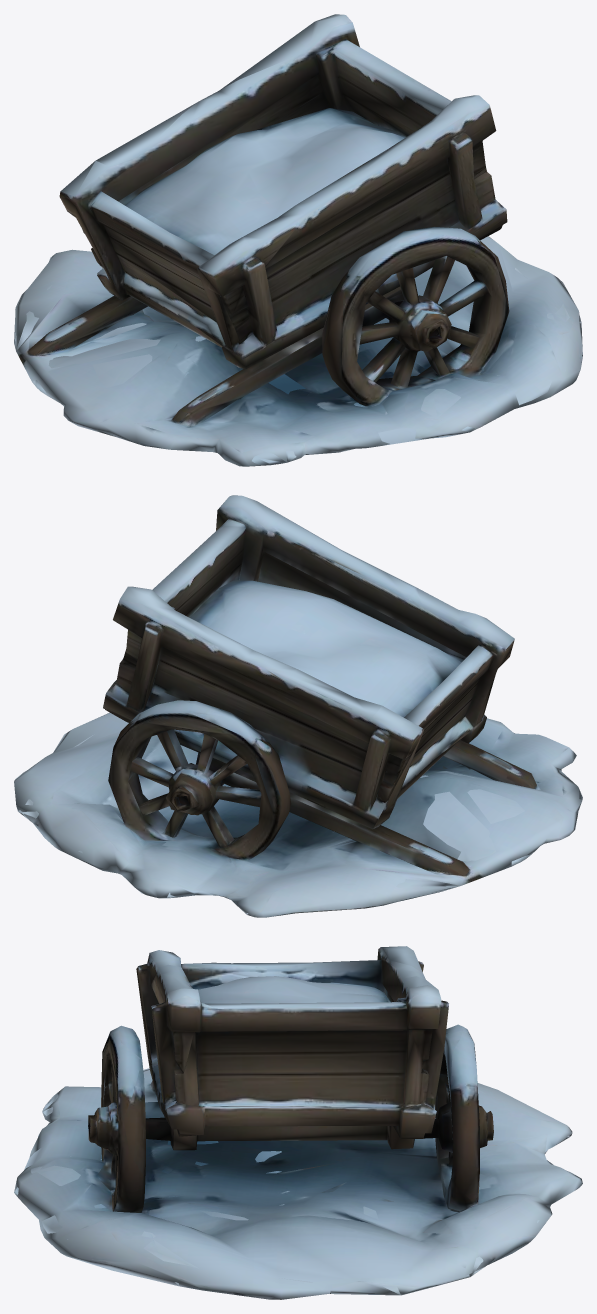
Rendered from snowcart.opt.glb.
3 renders of one model, top to bottom at view 1: azimuth 30°, elevation 25°; view 2: azimuth 150°, elevation 25°; view 3: azimuth 270°, elevation 25°, orthographic. The views are drawn at different scales.
Parts seen in each view (by area): view 1: node_0; view 2: node_0; view 3: node_0.
Boxes of the visible parts, bbox=[...] form: node_0: bbox=[14, 14, 582, 466]; node_0: bbox=[14, 495, 582, 917]; node_0: bbox=[14, 946, 582, 1299].
Bounding box in the file's own units: 1.04 × 0.51 × 1.02.
Materials: 1 (1 with a texture image).
